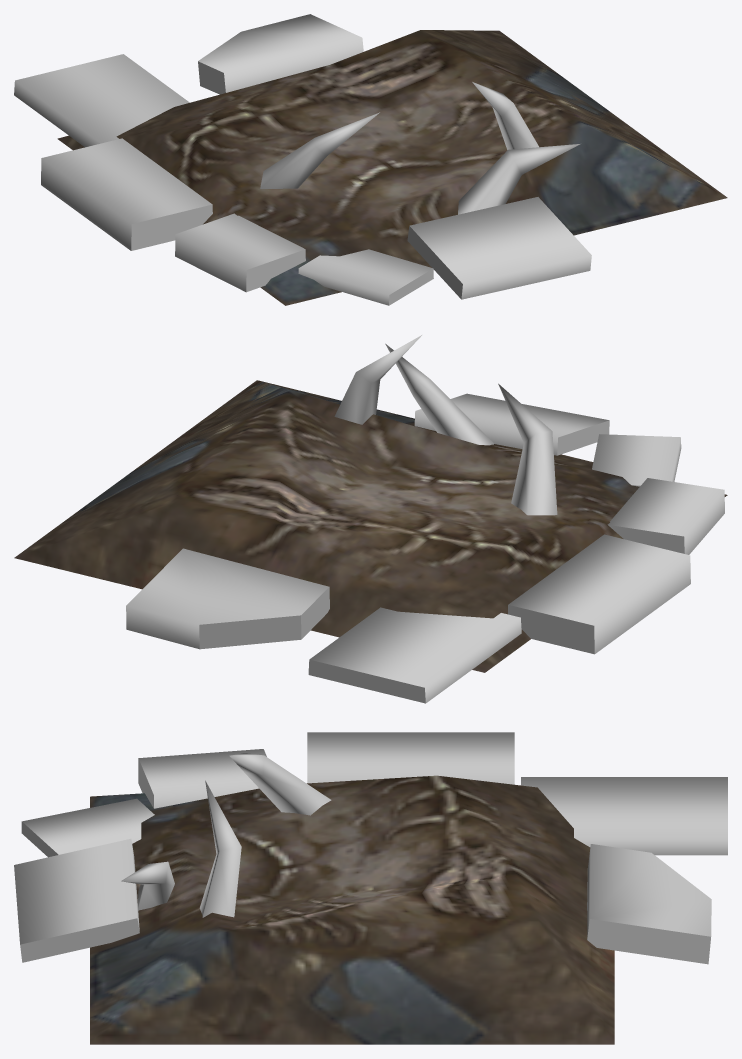
File: tlfb_tudui.FBX
The picture shows the model from 3 angles, top to bottom: view 1: azimuth 30°, elevation 25°; view 2: azimuth 150°, elevation 25°; view 3: azimuth 270°, elevation 25°; orthographic projection. The views are drawn at different scales.
Visible parts, largest first — view 1: tlfb_tudui, tlfb_suishi2 (×4), tlfb_suishi3, tlfb_suishi1, tlfb_gutou (×3); view 2: tlfb_tudui, tlfb_suishi2 (×4), tlfb_suishi1, tlfb_gutou (×3), tlfb_suishi3; view 3: tlfb_tudui, tlfb_suishi2 (×4), tlfb_suishi3, tlfb_suishi1, tlfb_gutou (×3).
Boxes of the visible parts, box(x1,y1,x2,y2) form: tlfb_tudui: box(57, 30, 727, 305); tlfb_suishi2 (×4): box(14, 54, 433, 305); tlfb_suishi3: box(407, 197, 591, 299); tlfb_suishi1: box(198, 14, 363, 94); tlfb_gutou (×3): box(260, 82, 580, 214); tlfb_tudui: box(14, 380, 727, 672); tlfb_suishi2 (×4): box(308, 434, 724, 703); tlfb_suishi1: box(126, 548, 329, 649); tlfb_gutou (×3): box(334, 335, 557, 515); tlfb_suishi3: box(414, 393, 609, 455); tlfb_tudui: box(90, 775, 614, 1044); tlfb_suishi2 (×4): box(21, 732, 727, 857); tlfb_suishi3: box(14, 838, 139, 962); tlfb_suishi1: box(587, 844, 711, 964); tlfb_gutou (×3): box(121, 753, 331, 917).
Bounding box in the file's own units: 142 × 37.96 × 152.
